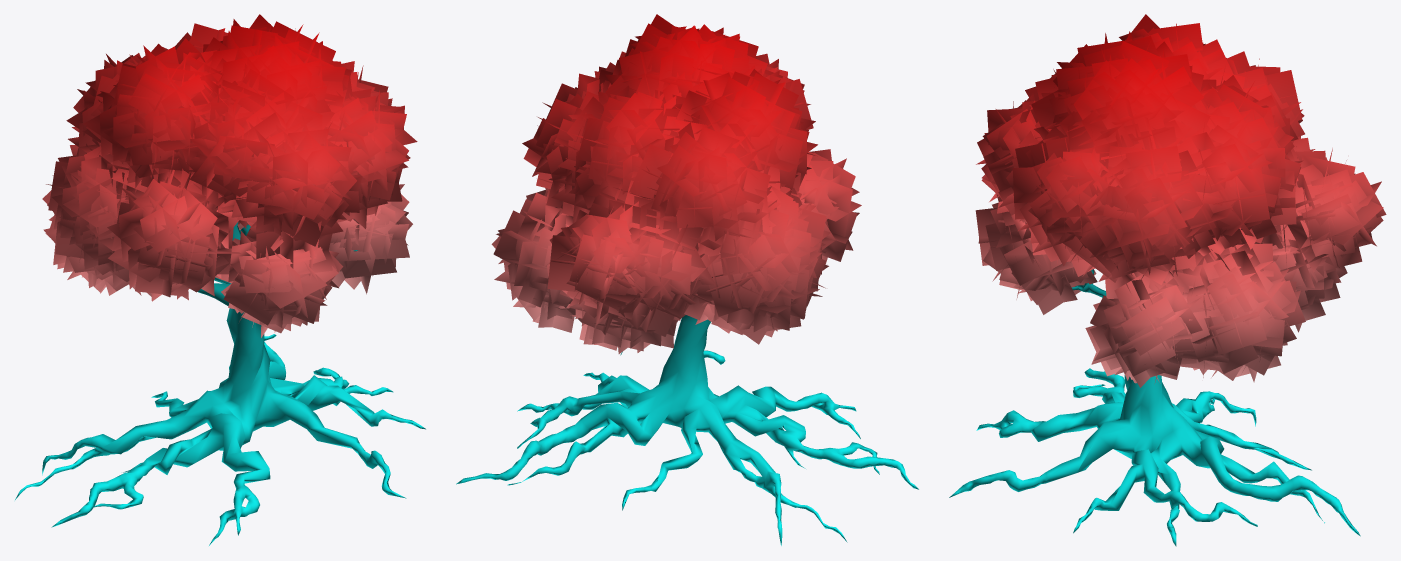
File: OakTree02.fbx
3 renders of one model, left to right at view 1: azimuth 30°, elevation 25°; view 2: azimuth 150°, elevation 25°; view 3: azimuth 270°, elevation 25°, orthographic. The views are drawn at different scales.
Parts seen in each view (by area): view 1: OakTree02_LOD0; view 2: OakTree02_LOD0; view 3: OakTree02_LOD0.
Part boxes in pixels (x1,y1,x2,y2): OakTree02_LOD0: (15,14,425,545); OakTree02_LOD0: (456,14,918,545); OakTree02_LOD0: (949,14,1386,546).
Bounding box in the file's own units: 1175 × 1335 × 1143.
